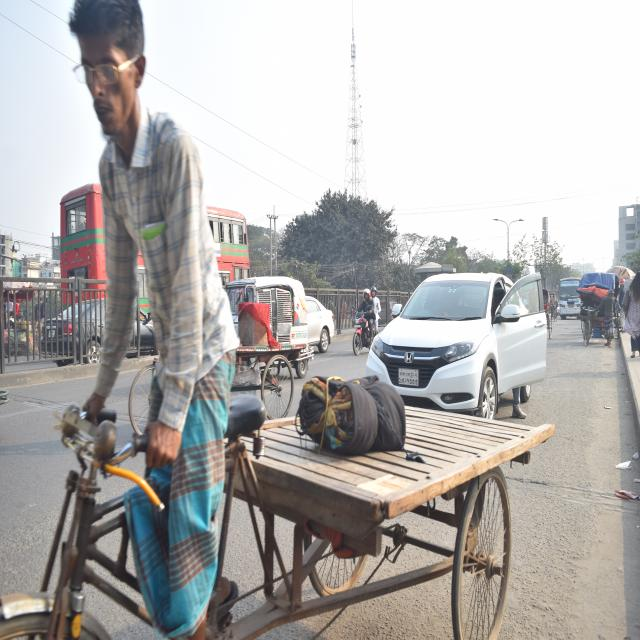bus: (55, 176, 246, 318), (556, 268, 582, 324)
car: (376, 270, 538, 412), (36, 294, 154, 374), (307, 292, 335, 358)
motorbike: (347, 300, 376, 351)
